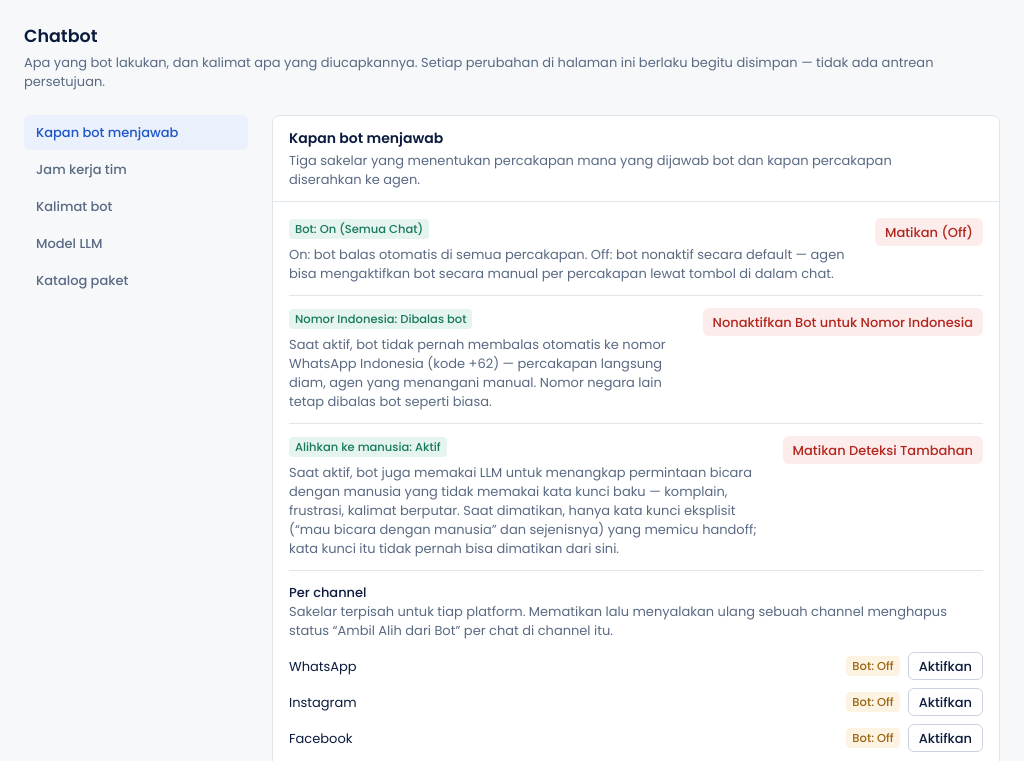
Test: ChatbotPage › shows the deployment gate status and a link to the knowledge gaps
This screenshot has width=1024, height=761.
Step 1. Click the button "Katalog paket" → (136, 280), box [24,263,248,298]
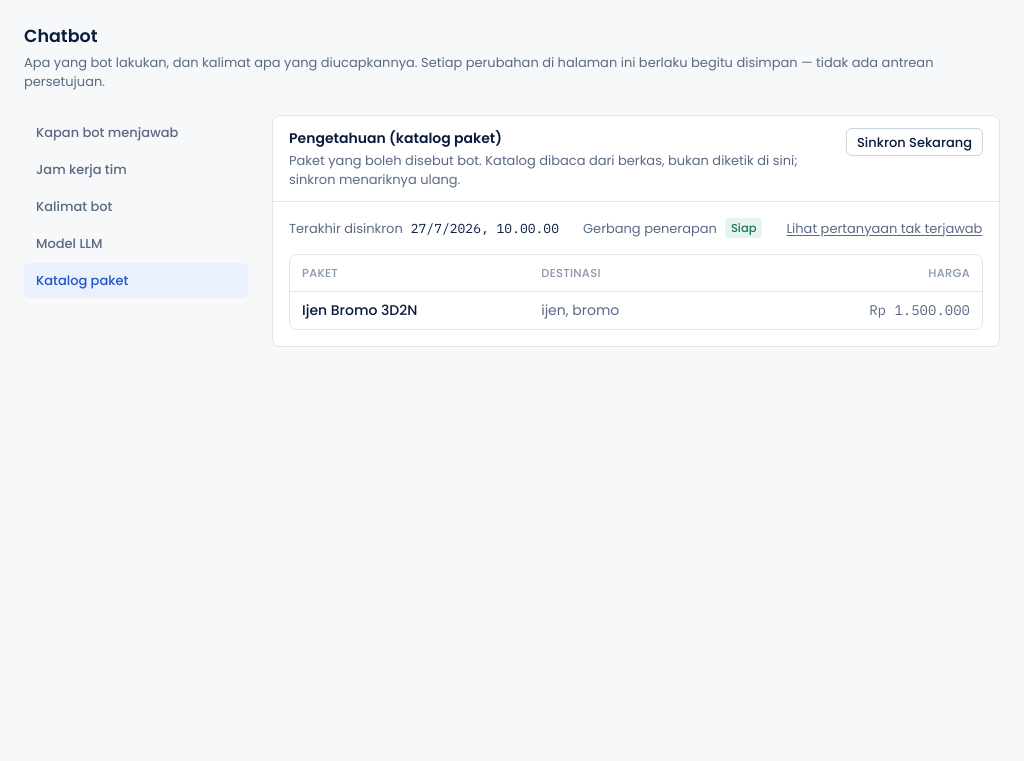
Expected: the text "Siap" is shown, [725,218,762,238]
